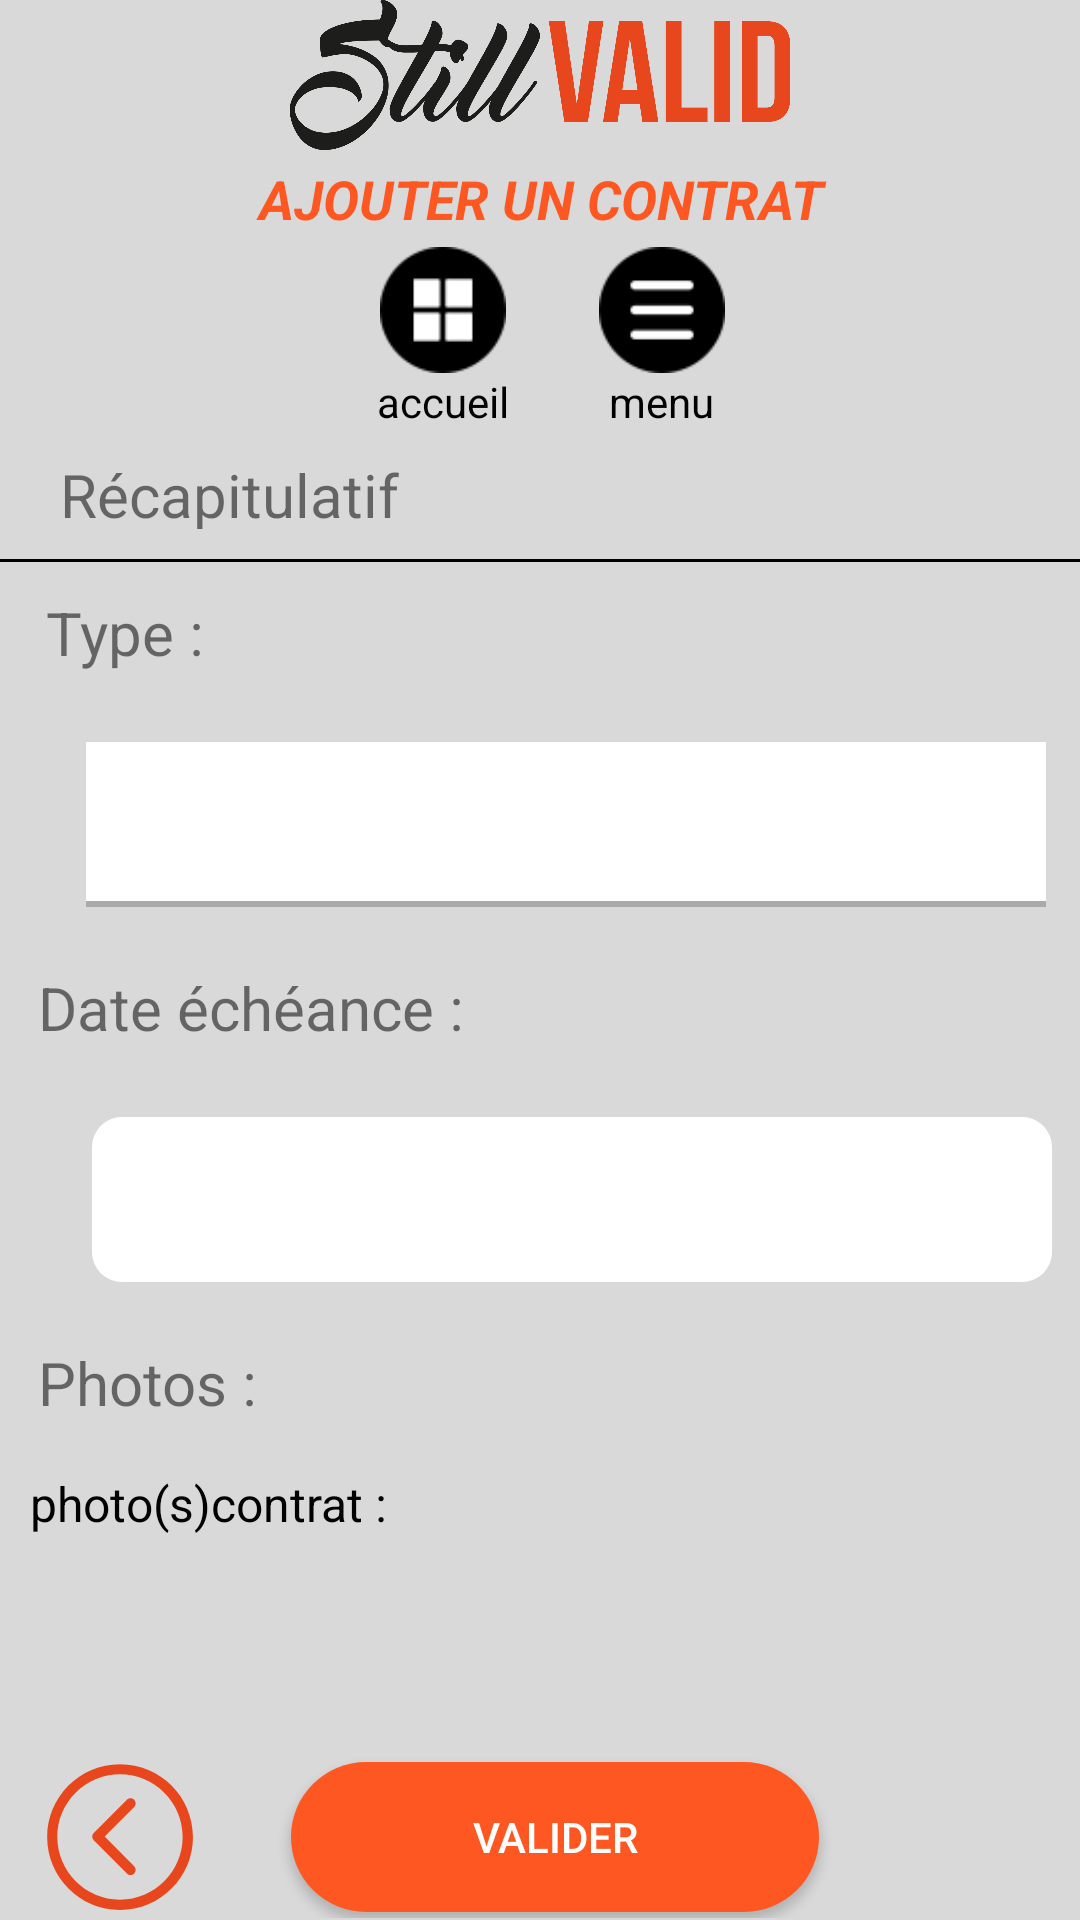

Where icons sit on this 1080 × 1920 app screen, as (x1, y1, x2, y2):
left: (47, 1764, 193, 1910)
